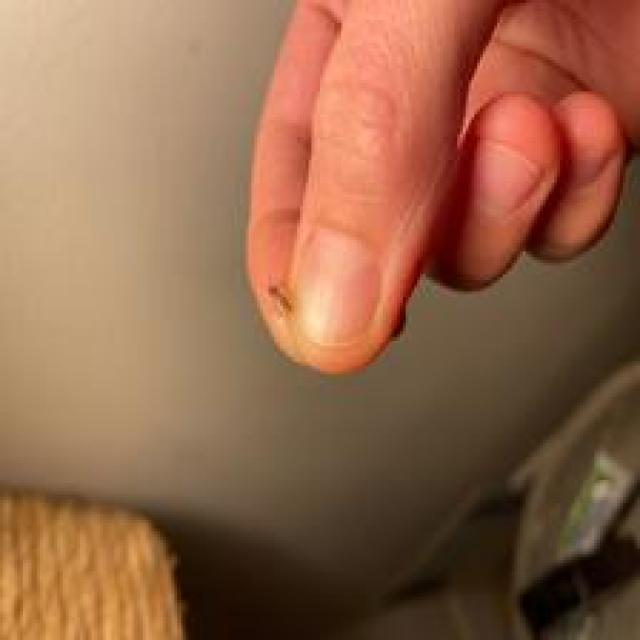Culex: (380, 340, 640, 640)
